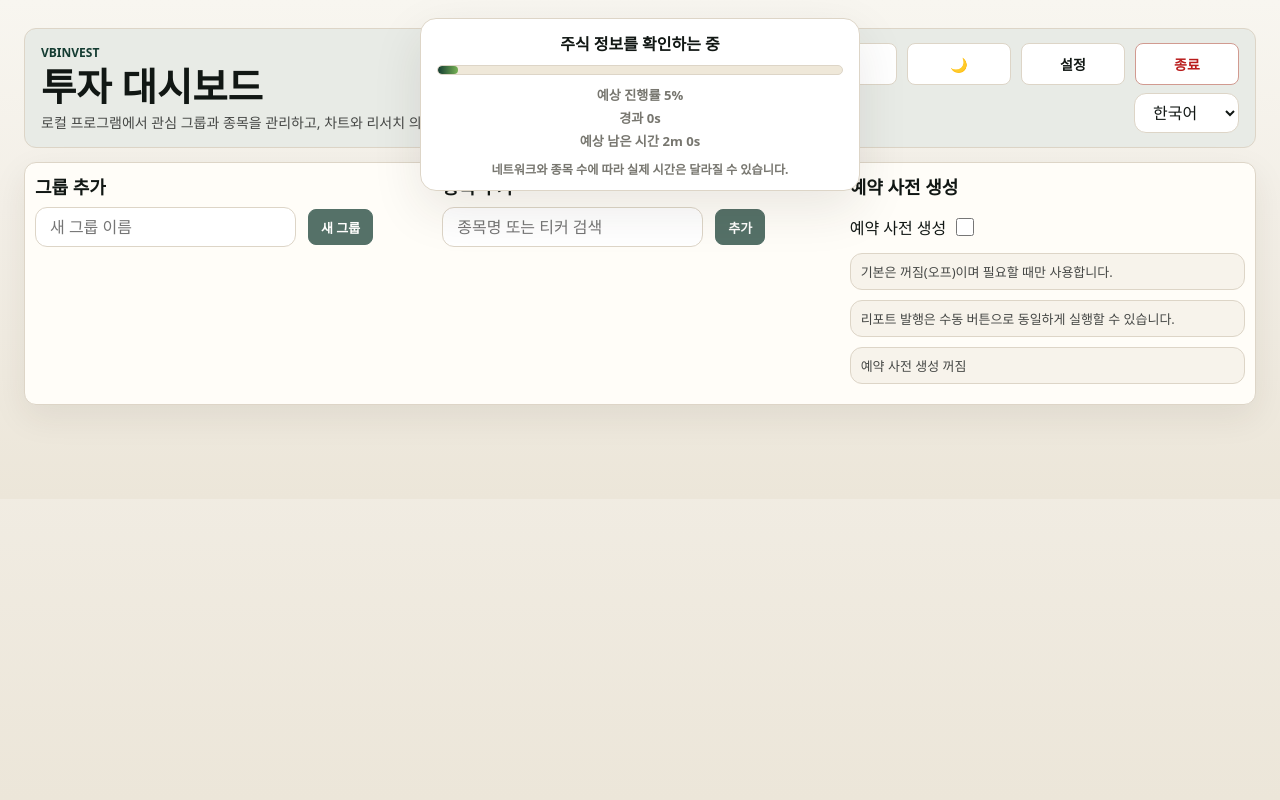
Scenario: WatchlistDashboard › keeps previous scheduled precompute state when PATCH settings fails
Click the checkbox named "예약 사전 생성". click: point(965, 227)
box: [956,207,974,247]
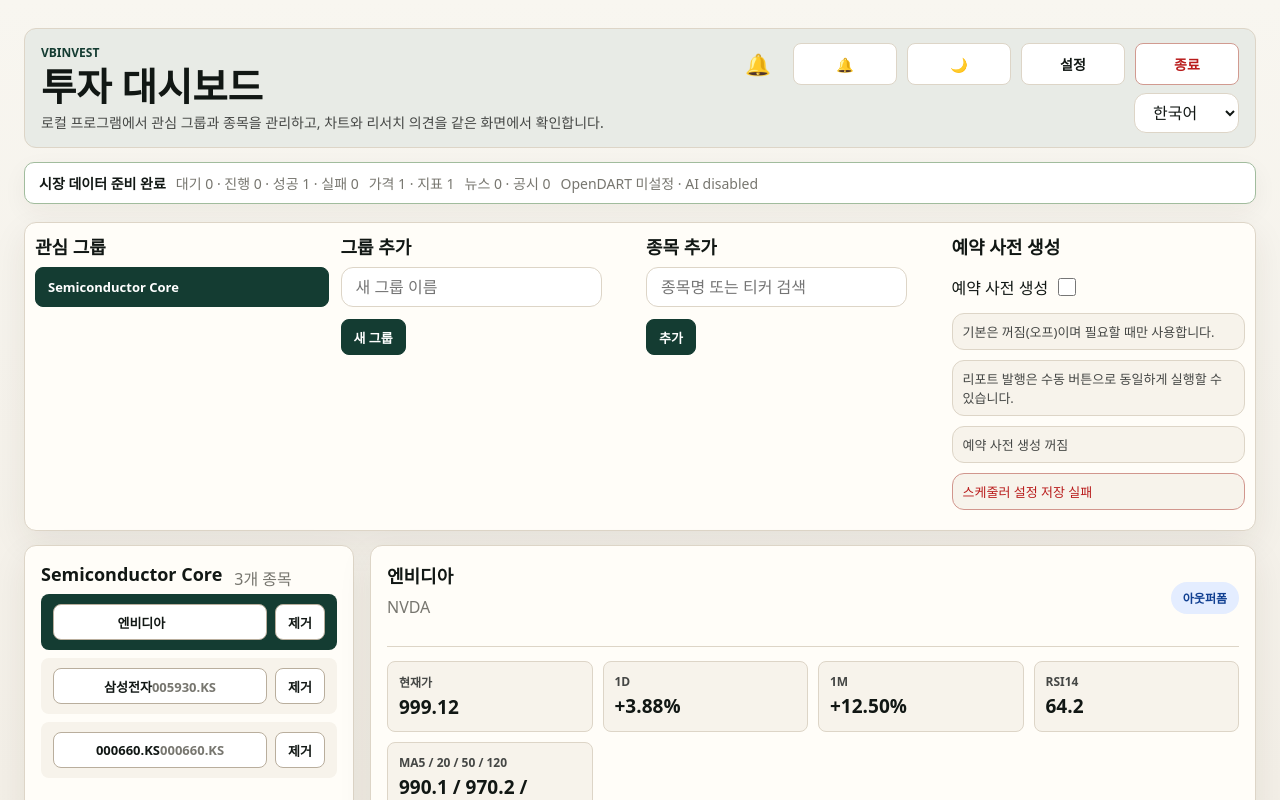
Expected: the checkbox named "예약 사전 생성" is not checked, [1058,267,1076,307]
Expected: the text "스케줄러 설정 저장 실패" is shown, [952,473,1245,510]
